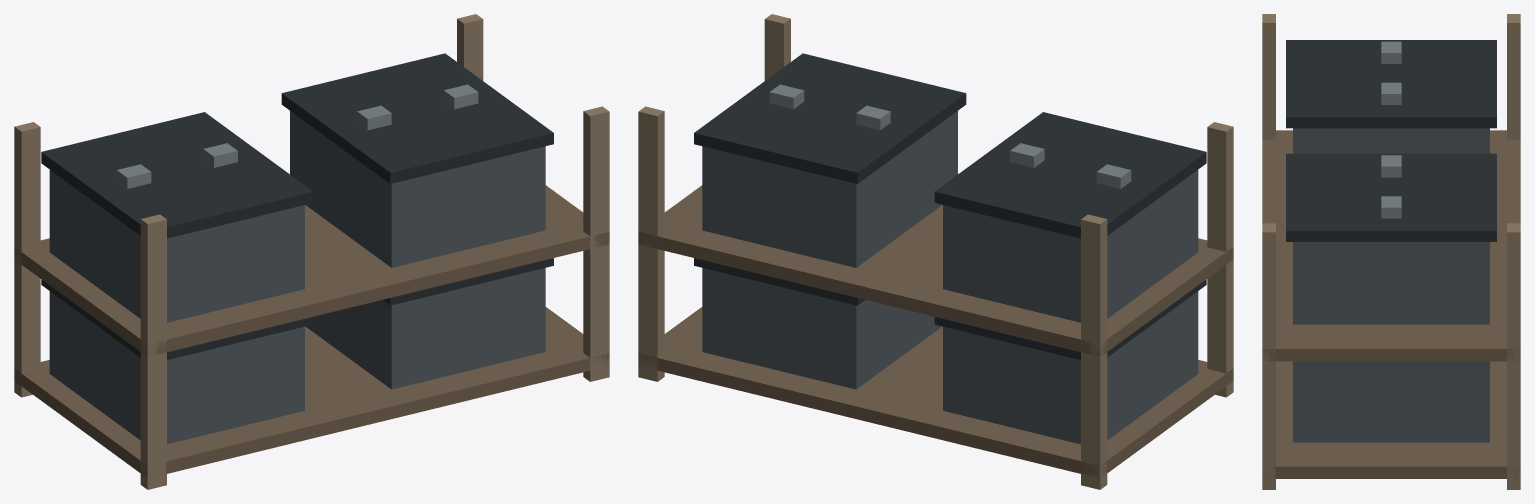
The model's file is battery_rack.glb.
3 renders of one model, left to right at view 1: azimuth 30°, elevation 25°; view 2: azimuth 150°, elevation 25°; view 3: azimuth 270°, elevation 25°, orthographic. The views are drawn at different scales.
Parts seen in each view (by area): view 1: battery_rack; view 2: battery_rack; view 3: battery_rack.
Boxes of the visible parts, box(x1,y1,x2,y2) form: battery_rack: box(14, 14, 609, 489); battery_rack: box(638, 14, 1233, 489); battery_rack: box(1262, 14, 1520, 489).
Size of the model in its own units: 2 by 1.1 by 1.
